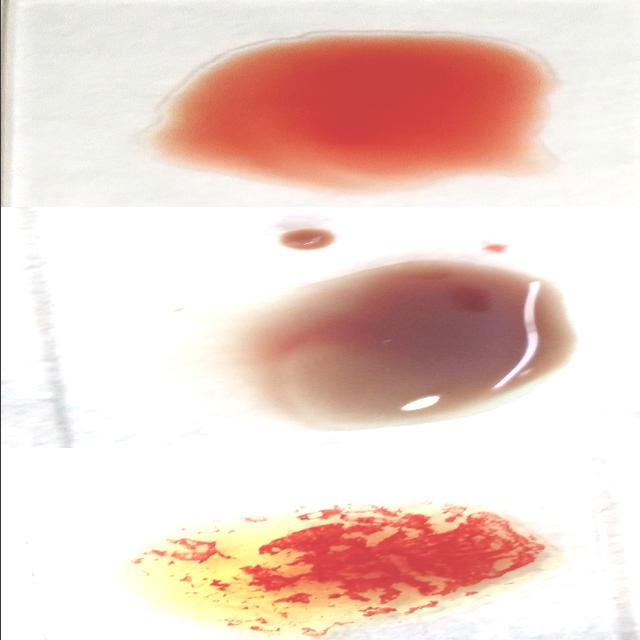B: (108, 504, 562, 626)
